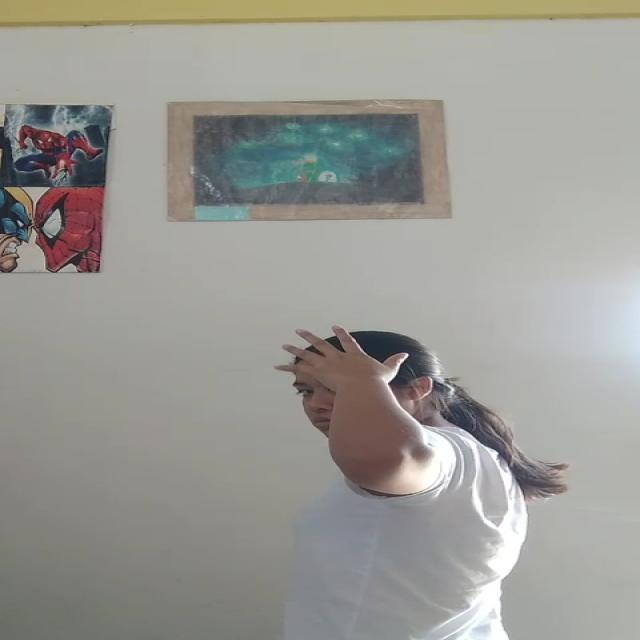7_mano_rostro: (292, 328, 414, 488)
